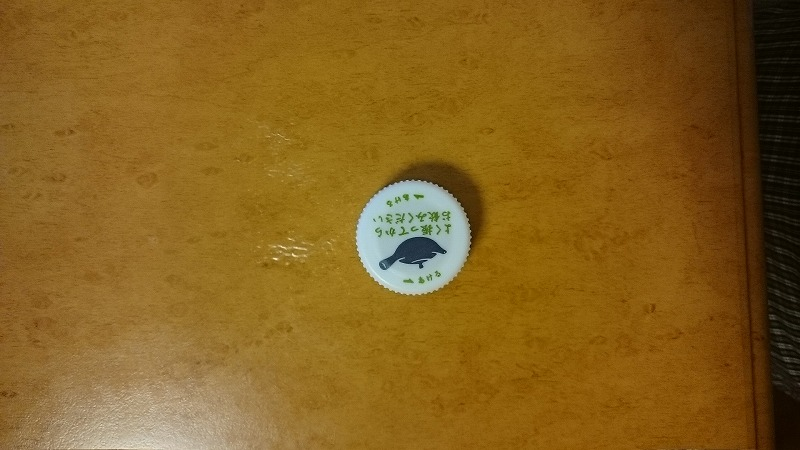A: (340, 168, 502, 299)
